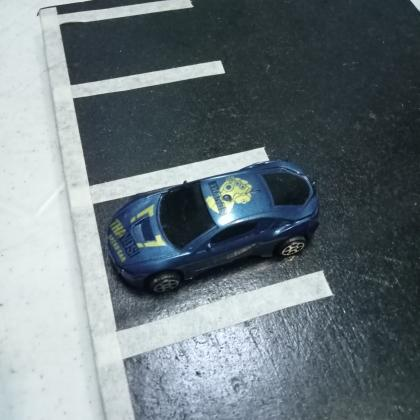Car: (104, 158, 323, 293)
